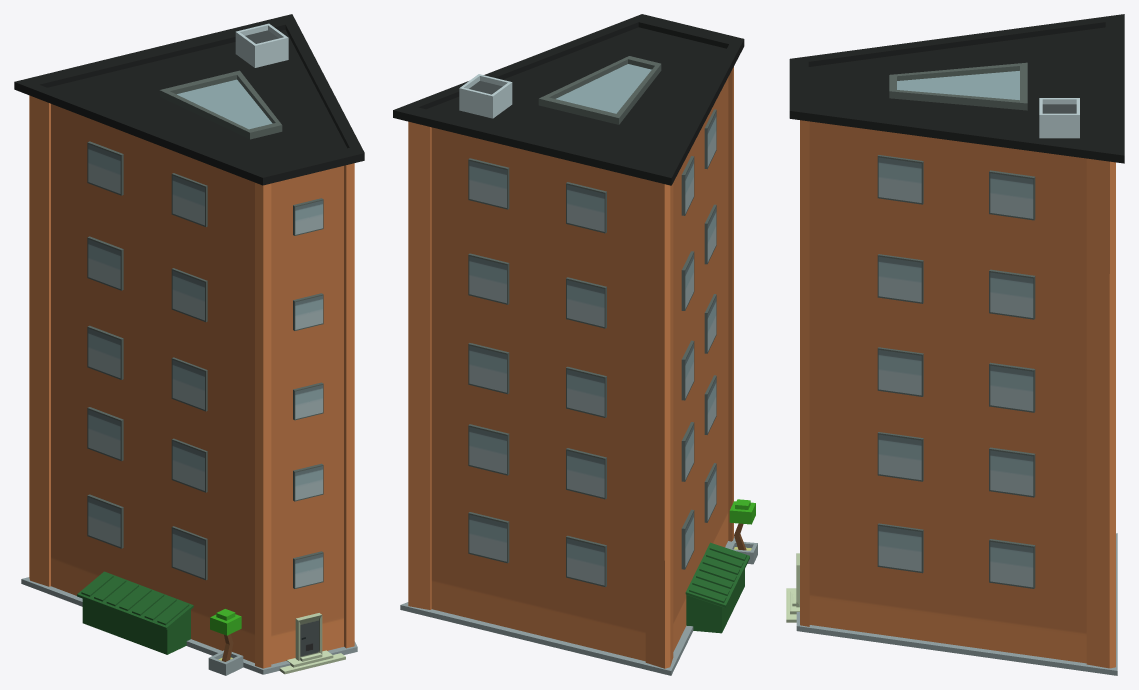
The model's file is Basic Triangular High.fbx.
3 views of the same model, side by side, from view 1: azimuth 30°, elevation 25°; view 2: azimuth 150°, elevation 25°; view 3: azimuth 270°, elevation 25° (orthographic). The views are drawn at different scales.
Visible parts, largest first — view 1: Basic Triangular High; view 2: Basic Triangular High; view 3: Basic Triangular High.
Part boxes in pixels (x1,y1,x2,y2): Basic Triangular High: [14, 14, 364, 675]; Basic Triangular High: [393, 14, 757, 675]; Basic Triangular High: [786, 14, 1124, 675].
Size of the model in its own units: 5.71 by 10.14 by 5.76.
